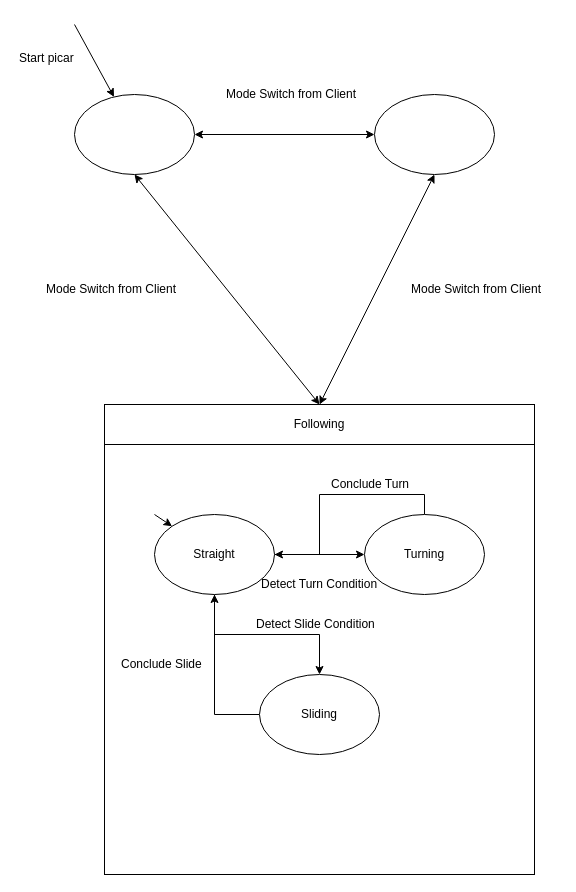
Image size: 576x892. Some labels were removed from this diagram. The centre of each missing label's shape, as x and y in pixels:
"Idle" goes at (x=134, y=134).
"Leading" goes at (x=434, y=134).
